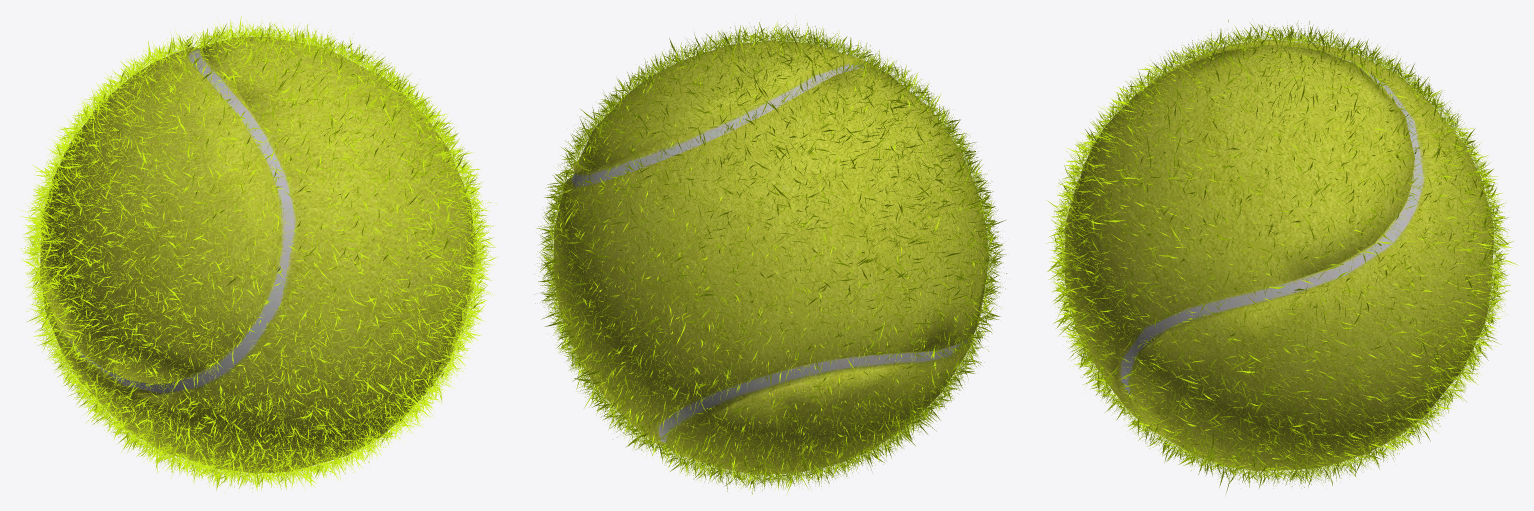
File: tennis-ball-felt-web.glb
3 views of the same model, side by side, from view 1: azimuth 30°, elevation 25°; view 2: azimuth 150°, elevation 25°; view 3: azimuth 270°, elevation 25° (orthographic).
Visible parts, largest first — view 1: Object_2, Object_3; view 2: Object_2, Object_3; view 3: Object_2, Object_3.
Part boxes in pixels (box(x1,y1,x2,y2)): Object_2: box(40, 36, 476, 473); Object_3: box(19, 16, 498, 492); Object_2: box(553, 40, 988, 474); Object_3: box(535, 19, 1006, 494); Object_2: box(1064, 39, 1493, 471); Object_3: box(1047, 19, 1518, 493).
Bounding box in the file's own units: 6.84 × 6.76 × 6.82.
2 materials, 1 textured.
